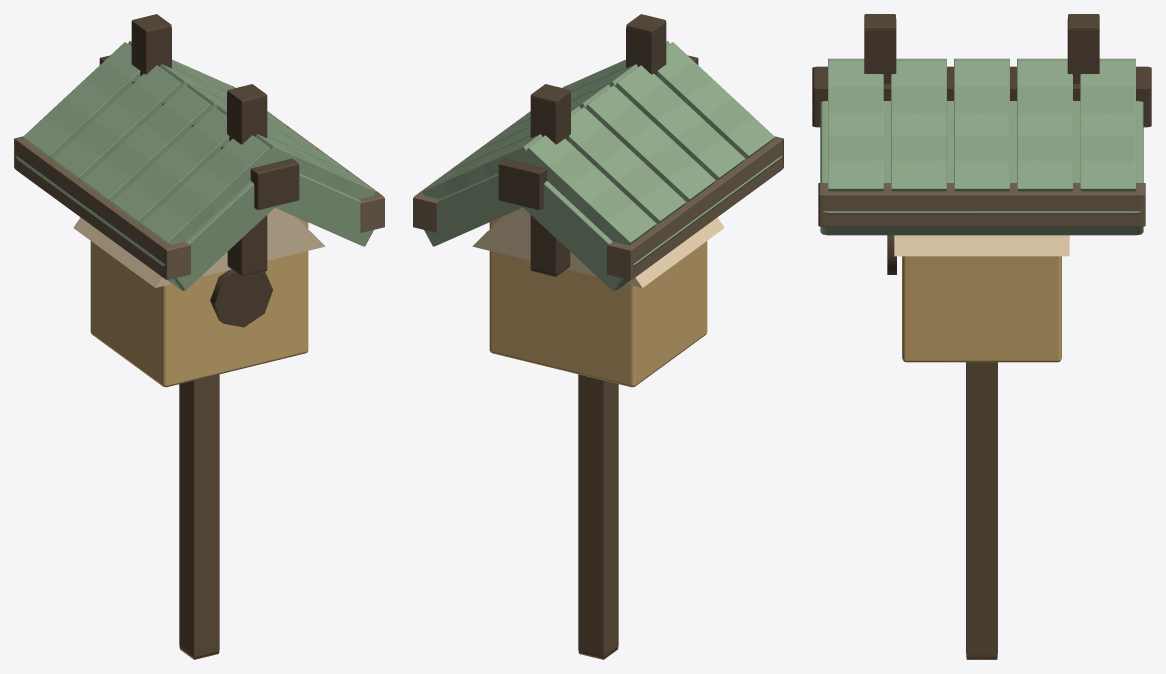
Rendered from birdhouse-3.glb.
3 views of the same model, side by side, from view 1: azimuth 30°, elevation 25°; view 2: azimuth 150°, elevation 25°; view 3: azimuth 270°, elevation 25° (orthographic). The views are drawn at different scales.
Visible parts, largest first — view 1: birdhouse-3-0; view 2: birdhouse-3-0; view 3: birdhouse-3-0.
Part boxes in pixels (x1=…): birdhouse-3-0: x1=14, y1=14, x2=384, y2=659; birdhouse-3-0: x1=413, y1=14, x2=783, y2=659; birdhouse-3-0: x1=812, y1=14, x2=1151, y2=659.
Bounding box in the file's own units: 0.6786 × 1.75 × 0.85.
